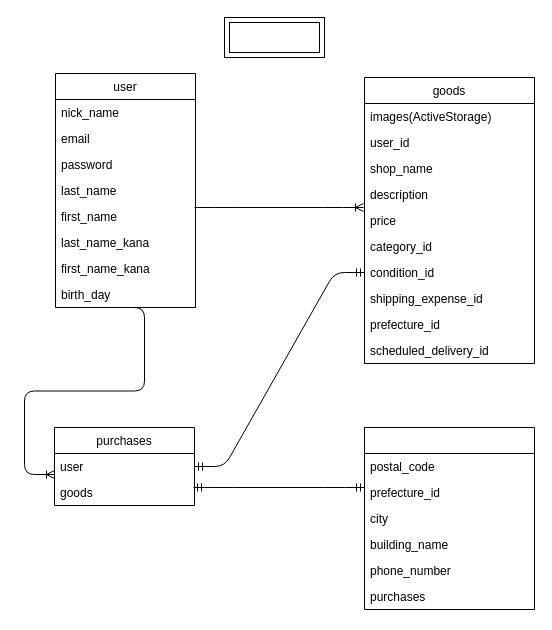
The diagram is 552 pixels wide and 630 high, and some of its shapes have lost their labels. Each missing label, with the box of its shape:
FURIMA ER図: (224, 16, 324, 58)
purchases_info: (364, 426, 534, 610)
